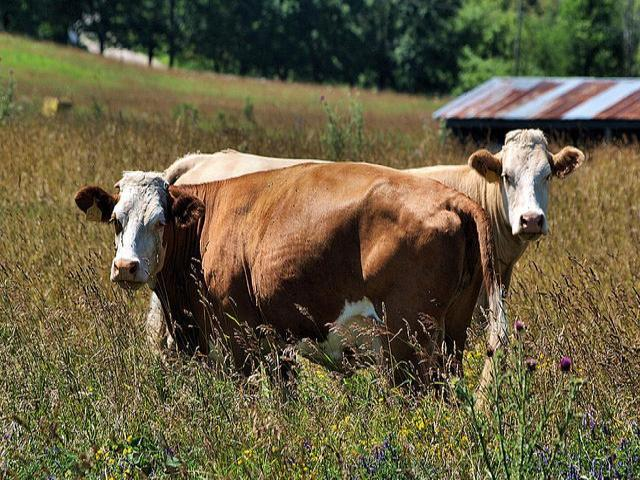cattle: (160, 120, 480, 360)
